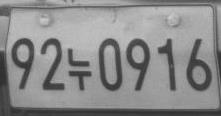0: (98, 37, 123, 92)
1: (154, 38, 180, 90)
2: (39, 37, 65, 90)
6: (185, 37, 212, 91)
9: (125, 37, 151, 91), (10, 37, 35, 89)
누: (67, 47, 91, 90)
